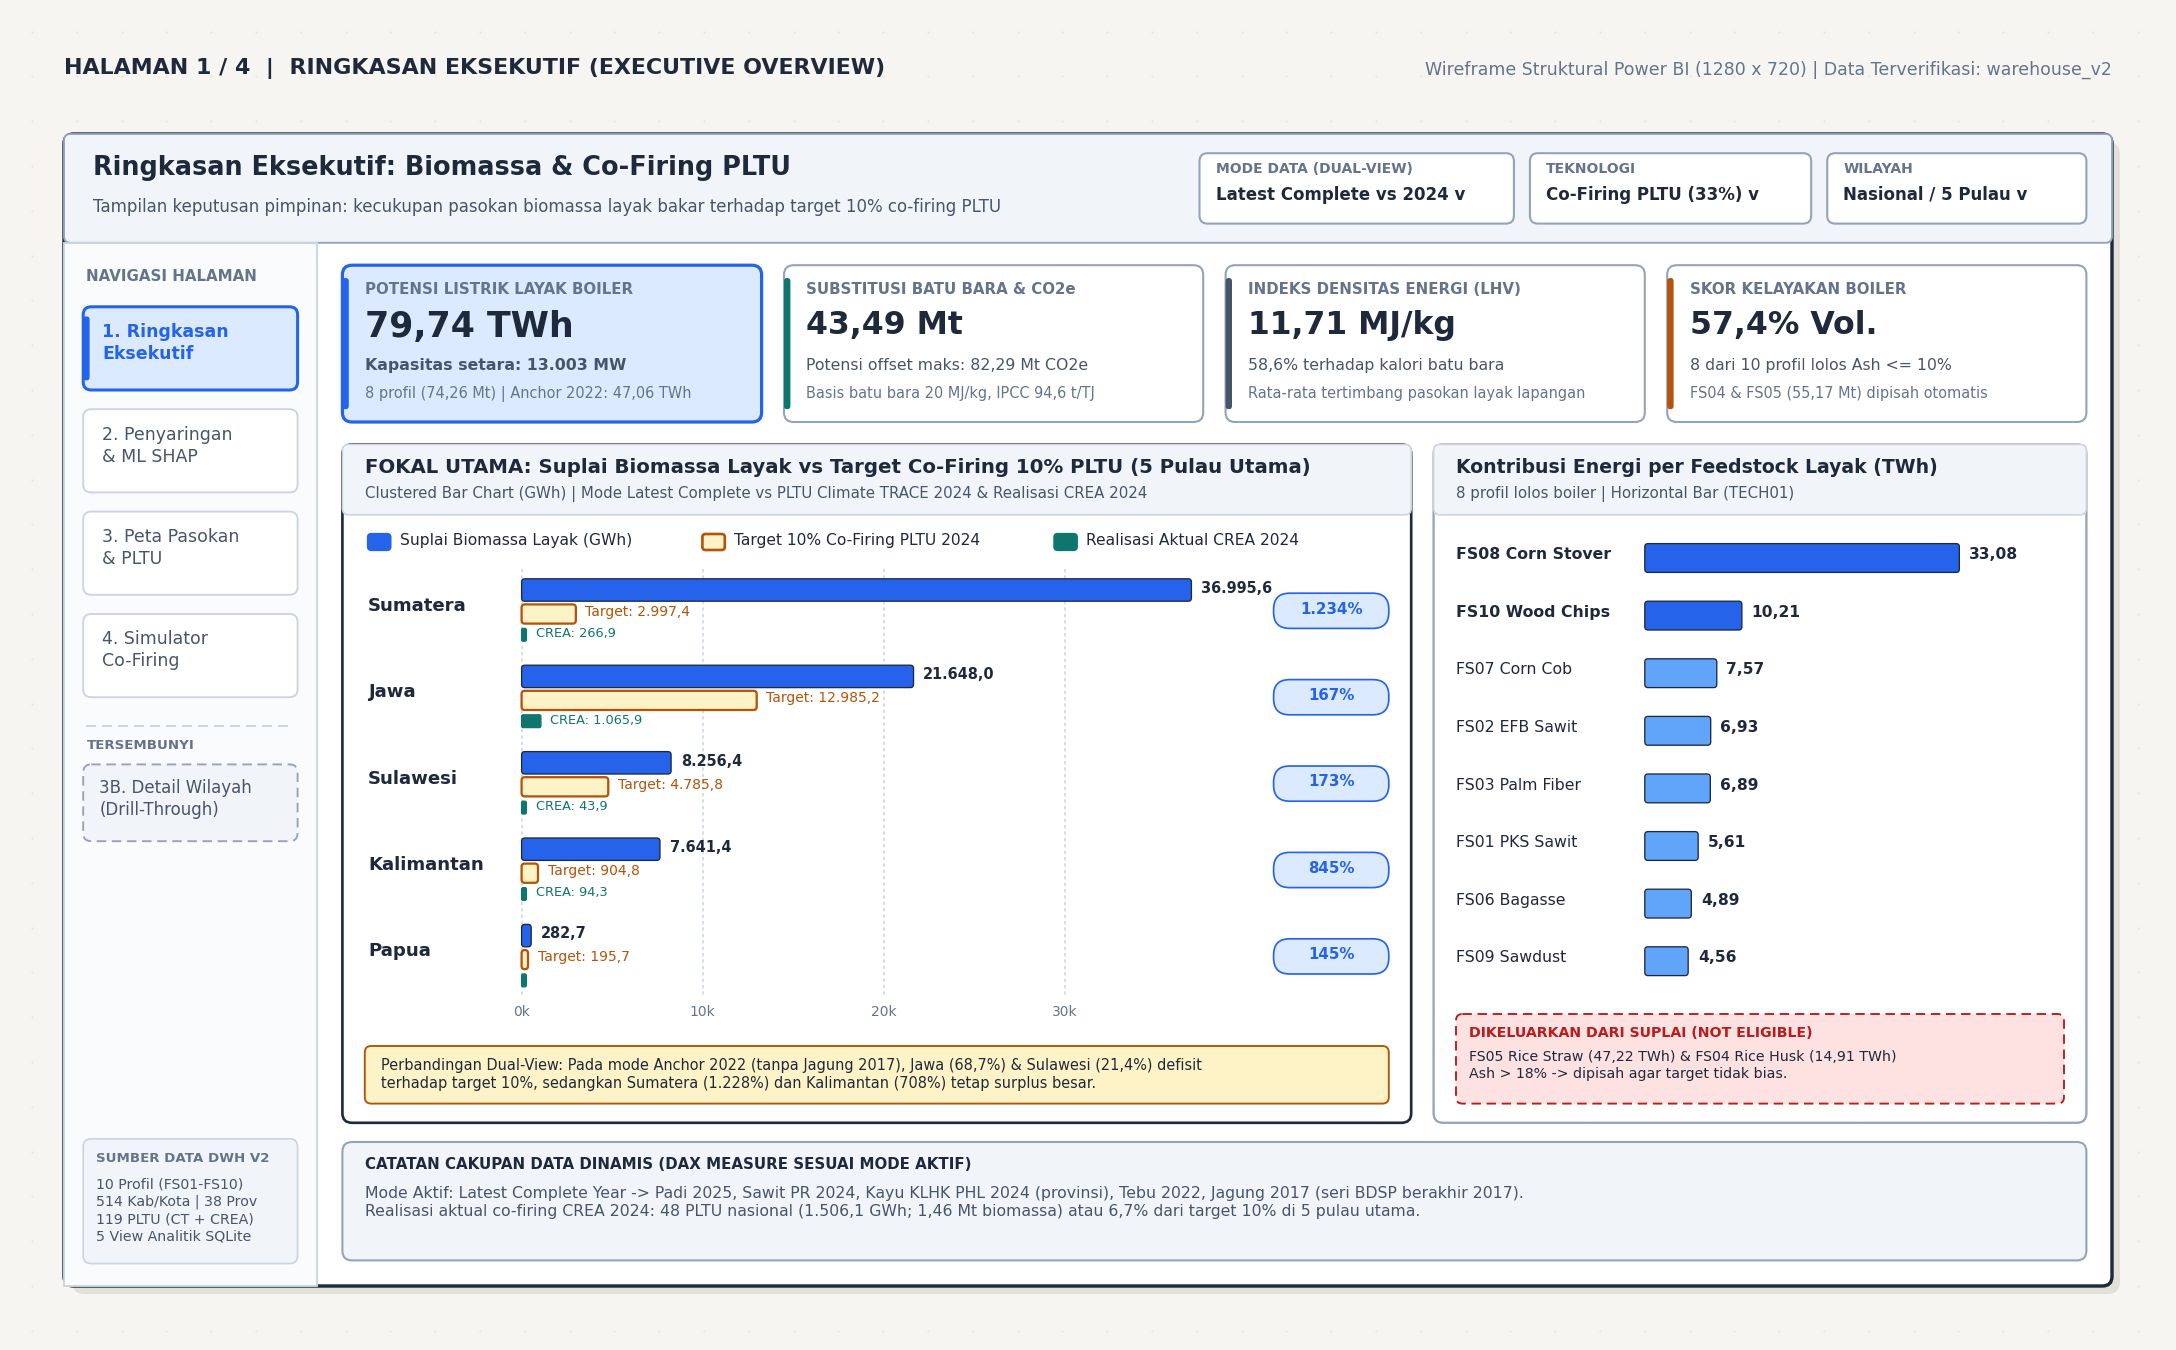

The page's visual inventory and layout, read from the dashboard file:
{"tool":"powerbi","page":{"name":"Ringasan Eksekutif","canvas":[1280,720],"ordinal":0},"visuals":[{"type":"pageNavigator","title":"NAVIGASI HALAMAN","box":[1.1,104.4,200,467.8],"z":0},{"type":"shape","box":[1,0,1278,104],"z":1000},{"type":"slicer","fields":{"Values":["dim_view_mode.view_mode_label"]},"box":[616,15,200,77],"z":2000},{"type":"slicer","fields":{"Values":["dim_conversion_tech.tech_name"]},"box":[833,15,200,77],"z":3000},{"type":"slicer","fields":{"Values":["dim_location.pulau"]},"box":[1048,15,210,77],"z":4000},{"type":"cardVisual","title":"TES","fields":{"Data":["_Measures.Eligible Generation (TWh)"]},"box":[225.1,104,251.4,129.1],"z":5000},{"type":"cardVisual","fields":{"Data":["_Measures.Max Coal Replaced Supply (Mt)"]},"box":[490,104,252,129],"z":6000},{"type":"cardVisual","fields":{"Data":["_Measures.Weighted Field LHV (MJ/kg)"]},"box":[756.6,104,251.4,129.1],"z":7000},{"type":"cardVisual","fields":{"Data":["_Measures.Technical Suitability Score (%)"]},"box":[1027.4,104,251.4,129.1],"z":8000},{"type":"clusteredBarChart","title":"Eligible Biomass Supply vs. 10% Co-Firing Target","fields":{"Category":["dim_location.pulau"],"Y":["_Measures.Eligible Generation (GWh)","_Measures.PLTU Target 10% Co-Firing (GWh)","_Measures.CREA 2024 Actual Co-Firing (GWh)"]},"box":[208.9,241.1,643.3,331.1],"z":9000},{"type":"clusteredBarChart","title":"Energy Contribution by Eligible Feedstock ","fields":{"Category":["dim_feedstock.feedstock_name"],"Y":["_Measures.Eligible Generation (TWh)"]},"box":[864,241.1,414.9,331.4],"z":10000},{"type":"textbox","box":[12,14,592,78],"z":11000},{"type":"cardVisual","fields":{"Data":["_Measures.PLTU Target 10% Co-Firing (GWh)","_Measures.Coverage vs 10% Target (%)","_Measures.CREA 2024 Actual Co-Firing (GWh)","_Measures.Excluded Supply FS04 FS05 (Ton)"]},"box":[10,583.3,1270,136.7],"z":12000},{"type":"slicer","fields":{"Values":["dim_location.pulau"]},"box":[890,19,180,71],"z":12001},{"type":"slicer","fields":{"Values":["dim_location.pulau"]},"box":[900,29,180,71],"z":12002},{"type":"slicer","fields":{"Values":["dim_location.pulau"]},"box":[910,39,180,71],"z":12003},{"type":"slicer","fields":{"Values":["dim_view_mode.view_mode_label"]},"box":[1081,19,173,72],"z":12004}]}

Visuals, with their boxes on the page's 1280x720 design canvas (x1, y1, x2, y2). These are canvas units, not pixel positions in the 2176x1350 screenshot, which may show the page scaled, cropped or inside an application window:
"NAVIGASI HALAMAN" pageNavigator: region(1, 104, 201, 572)
shape: region(1, 0, 1279, 104)
slicer - dim_view_mode.view_mode_label: region(616, 15, 816, 92)
slicer - dim_conversion_tech.tech_name: region(833, 15, 1033, 92)
slicer - dim_location.pulau: region(1048, 15, 1258, 92)
"TES" cardVisual: region(225, 104, 476, 233)
cardVisual - _Measures.Max Coal Replaced Supply (Mt): region(490, 104, 742, 233)
cardVisual - _Measures.Weighted Field LHV (MJ/kg): region(757, 104, 1008, 233)
cardVisual - _Measures.Technical Suitability Score (%): region(1027, 104, 1279, 233)
"Eligible Biomass Supply vs. 10% Co-Firing Target" clusteredBarChart: region(209, 241, 852, 572)
"Energy Contribution by Eligible Feedstock " clusteredBarChart: region(864, 241, 1279, 572)
textbox: region(12, 14, 604, 92)
cardVisual - _Measures.PLTU Target 10% Co-Firing (GWh) x _Measures.Coverage vs 10% Target (%): region(10, 583, 1280, 720)
slicer - dim_location.pulau: region(890, 19, 1070, 90)
slicer - dim_location.pulau: region(900, 29, 1080, 100)
slicer - dim_location.pulau: region(910, 39, 1090, 110)
slicer - dim_view_mode.view_mode_label: region(1081, 19, 1254, 91)
